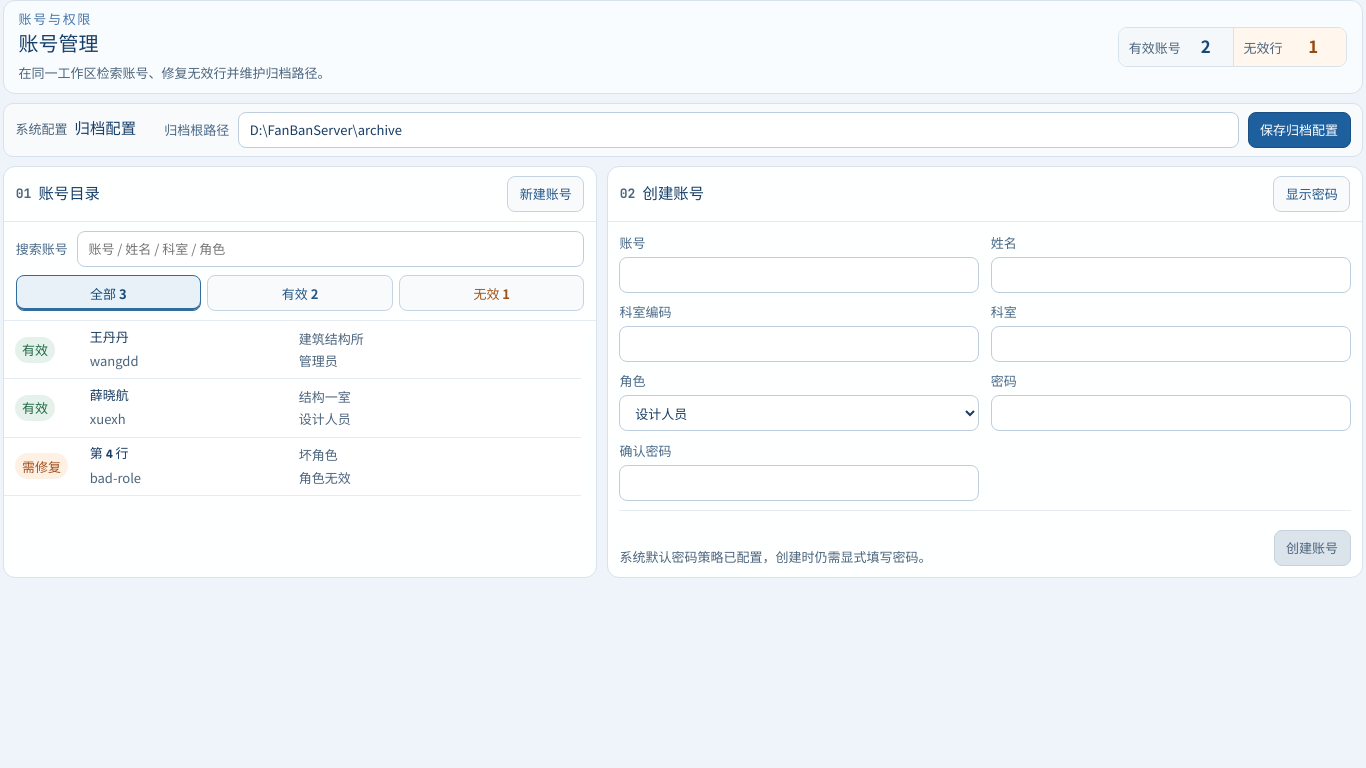
it: AccountAdminPage › requires a matching password confirmation when creating an account
The width and height of the screenshot is (1366, 768).
Check: the heading "创建账号" is shown, box [642,182,704,206]
In the field labelled "账号": [799, 275] box [619,257,979,293], type "new-user"
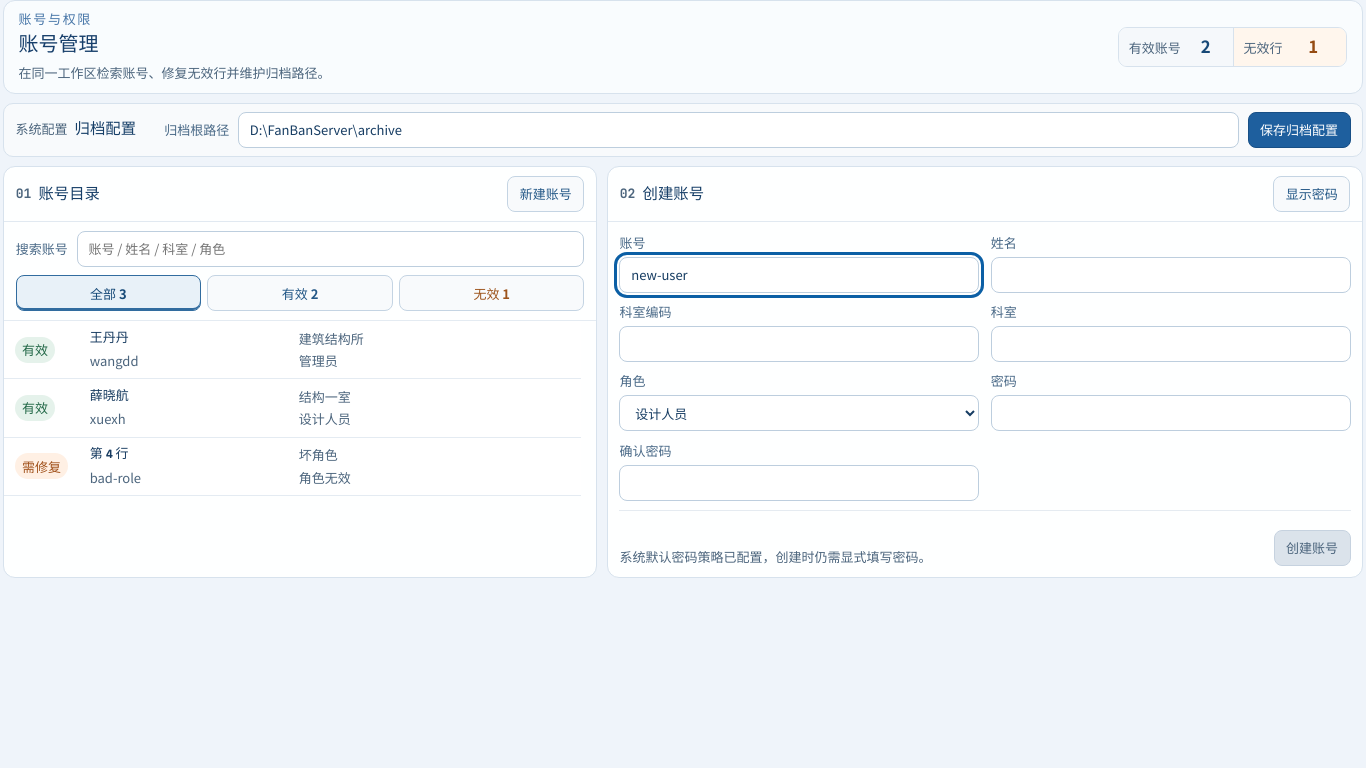
In the field labelled "姓名": [1171, 275] box [991,257,1351,293], type "新用户"
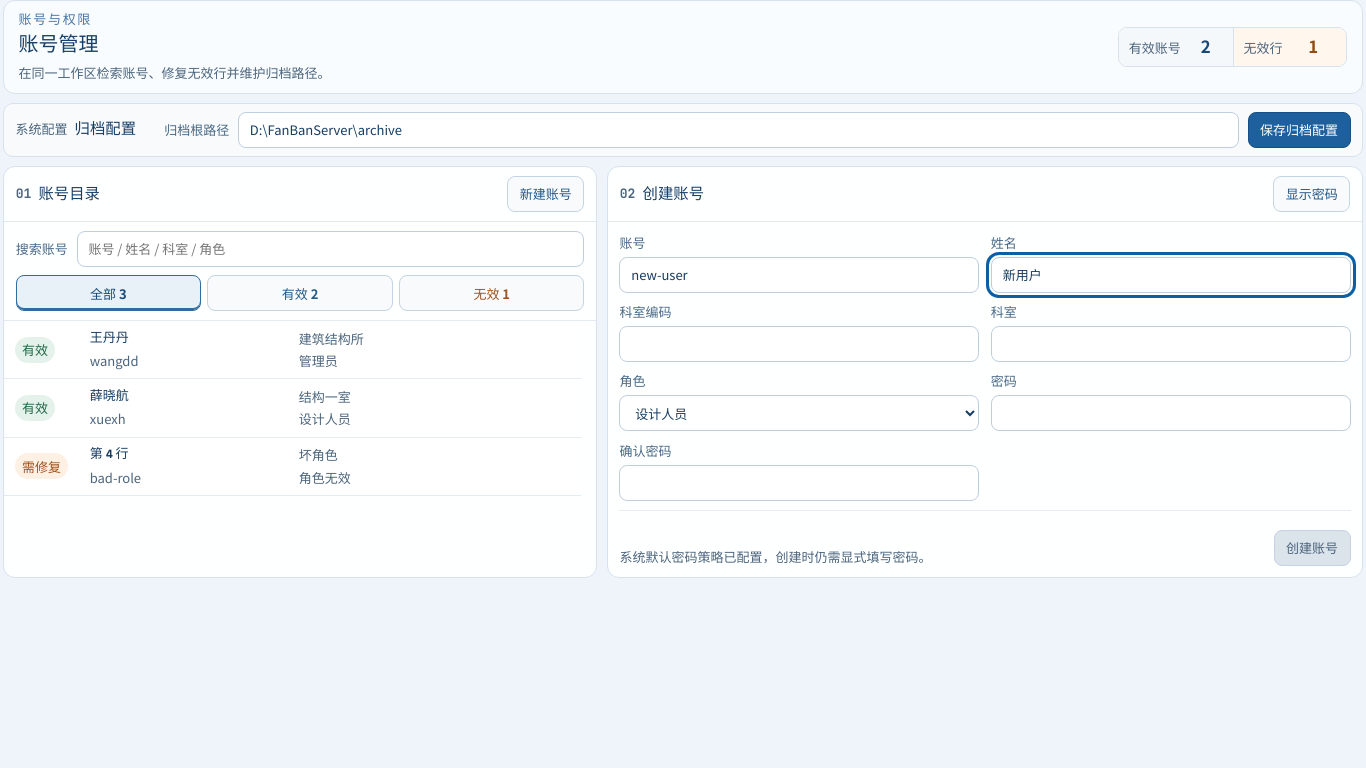
In the password field labelled "密码": [1171, 413] box [991,395,1351,431], type "new-secret"
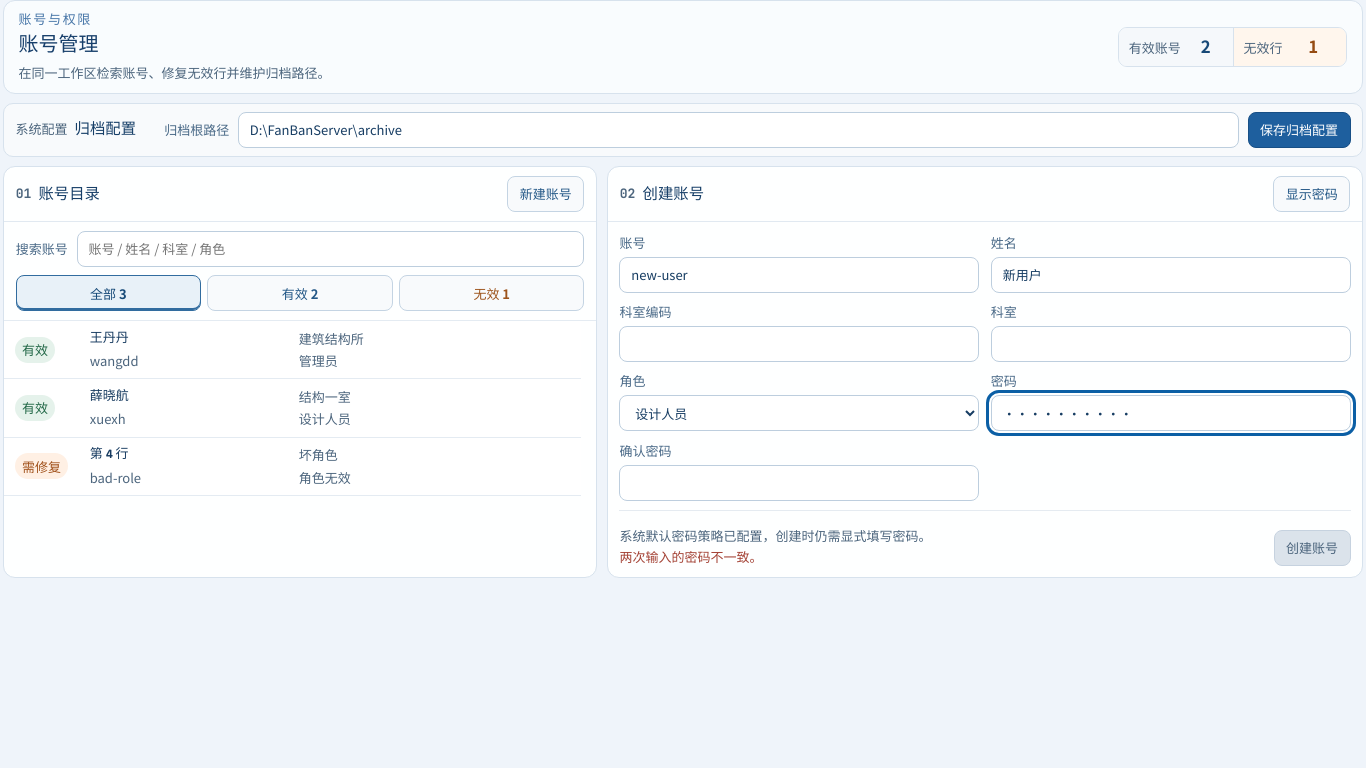
In the password field labelled "确认密码": [799, 483] box [619,465,979,501], type "wrong-secret"
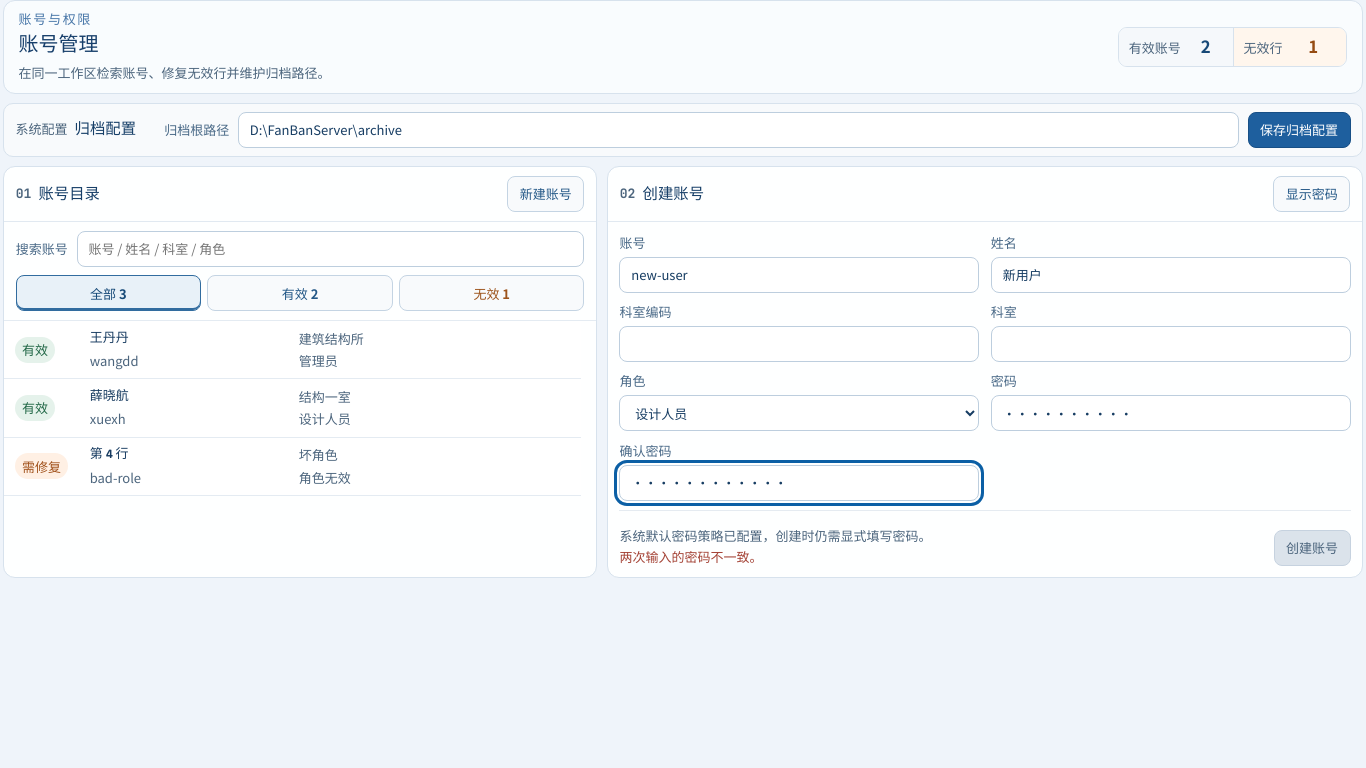
Check: the button "创建账号" is disabled, box [1274,530,1351,566]
In the password field labelled "确认密码": [799, 483] box [619,465,979,501], type "new-secret"
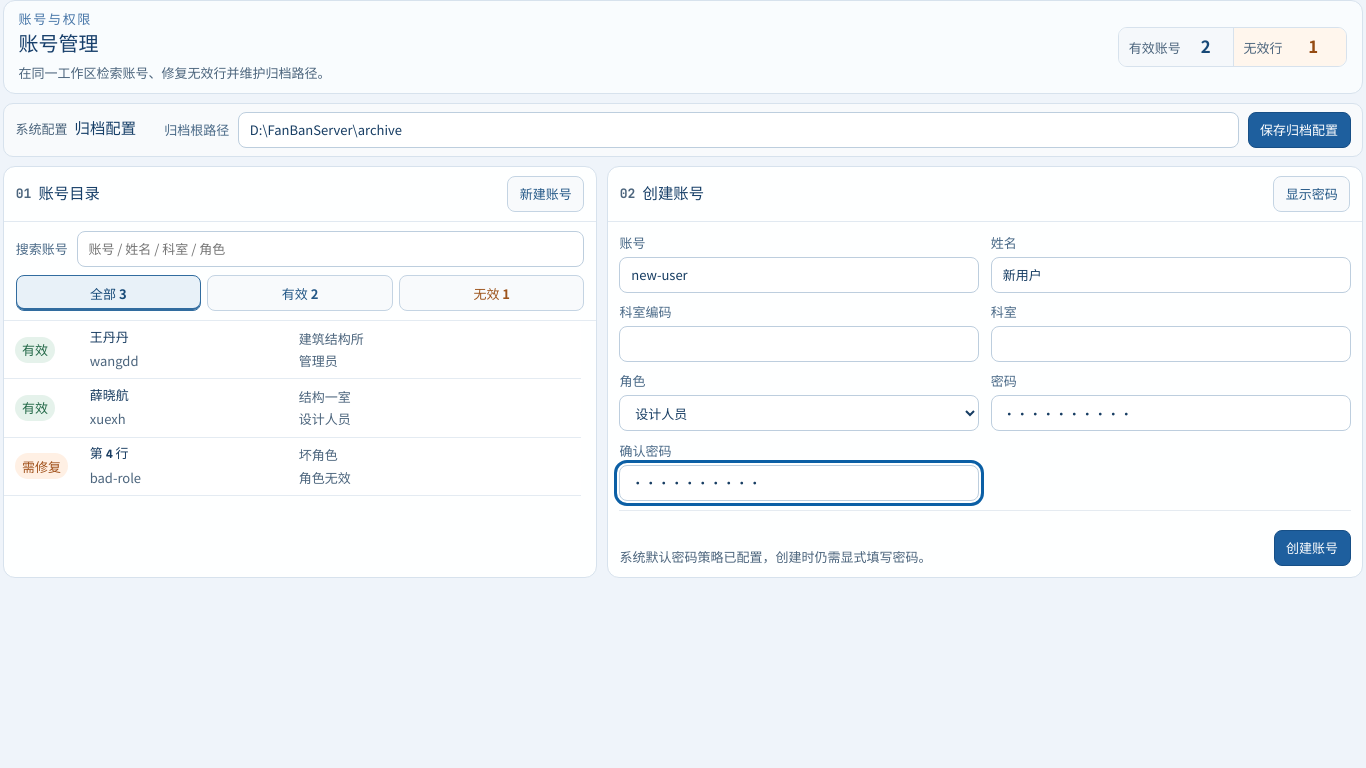
Click the button "创建账号": [1312, 548] box [1274,530,1351,566]
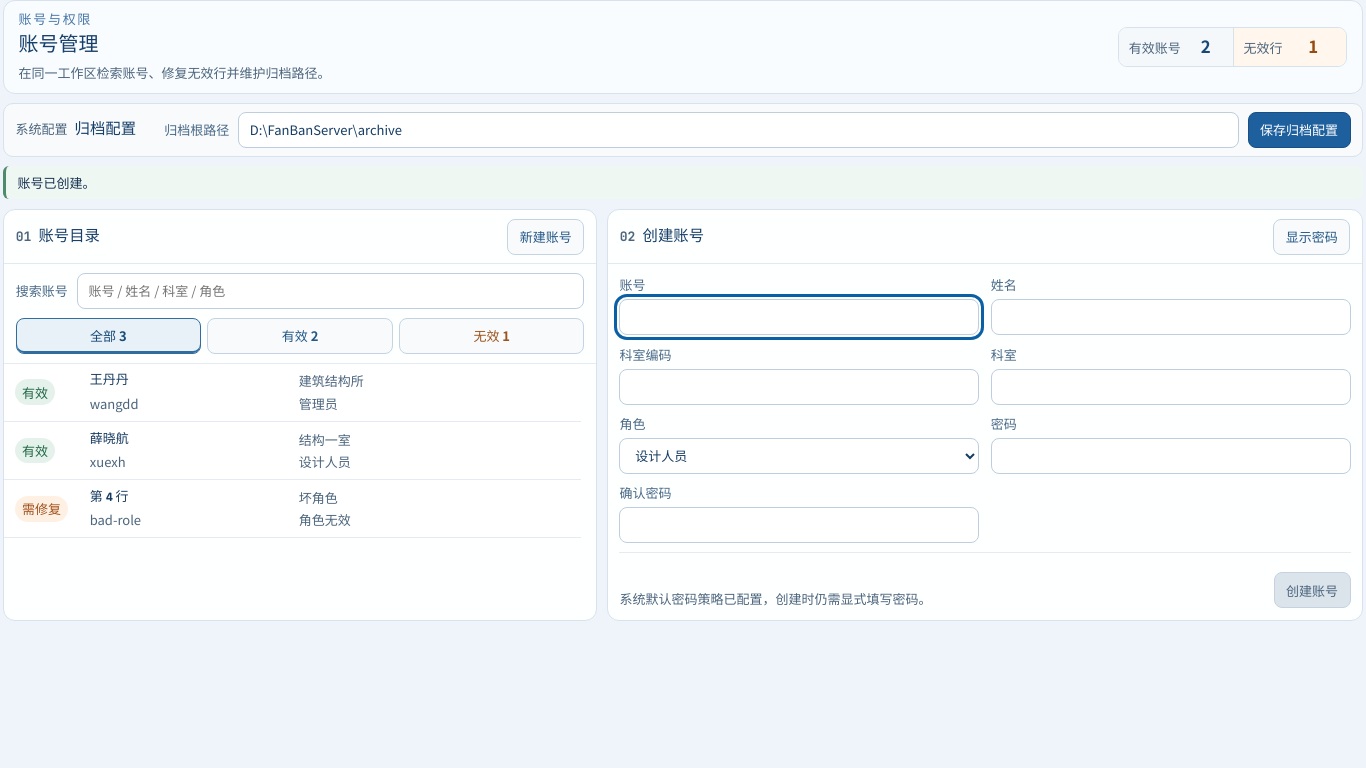
Check: the message reads "账号已创建。", box [17,173,95,192]
